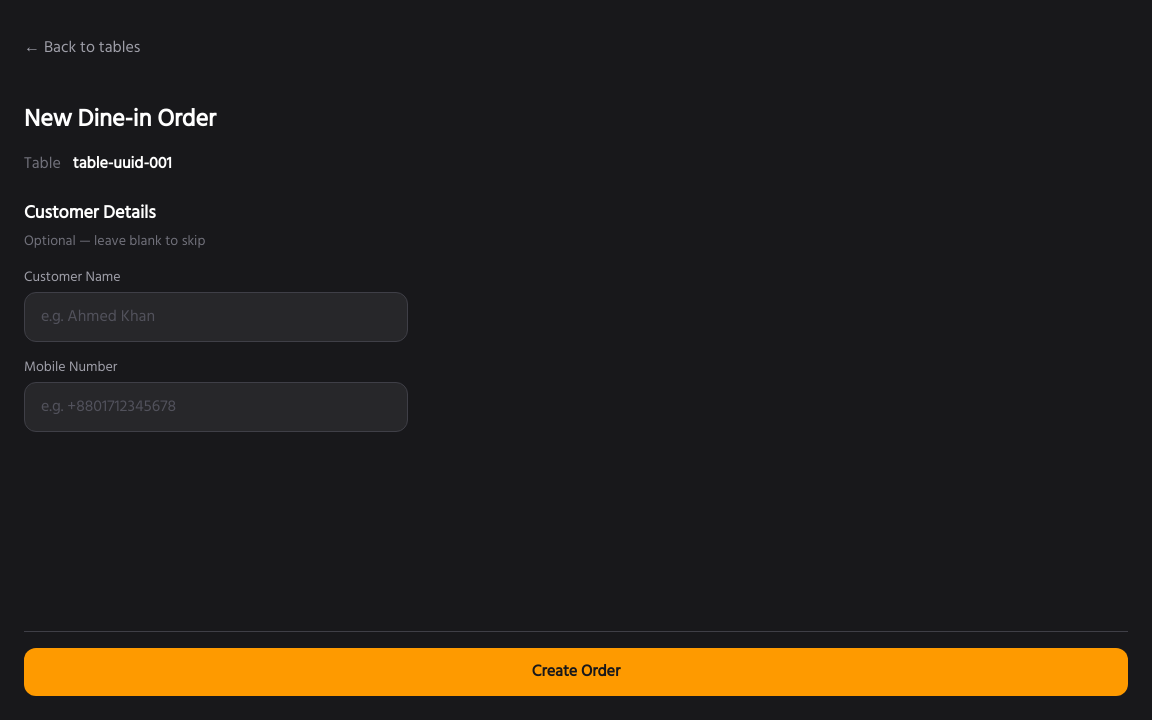
Test case: NewOrderPage (dine-in with optional customer capture — issue #401) › on failure › shows the error message and a Go back button
This screenshot has width=1152, height=720.
Click the button "Create Order". click: (576, 672)
box: [24, 648, 1128, 696]
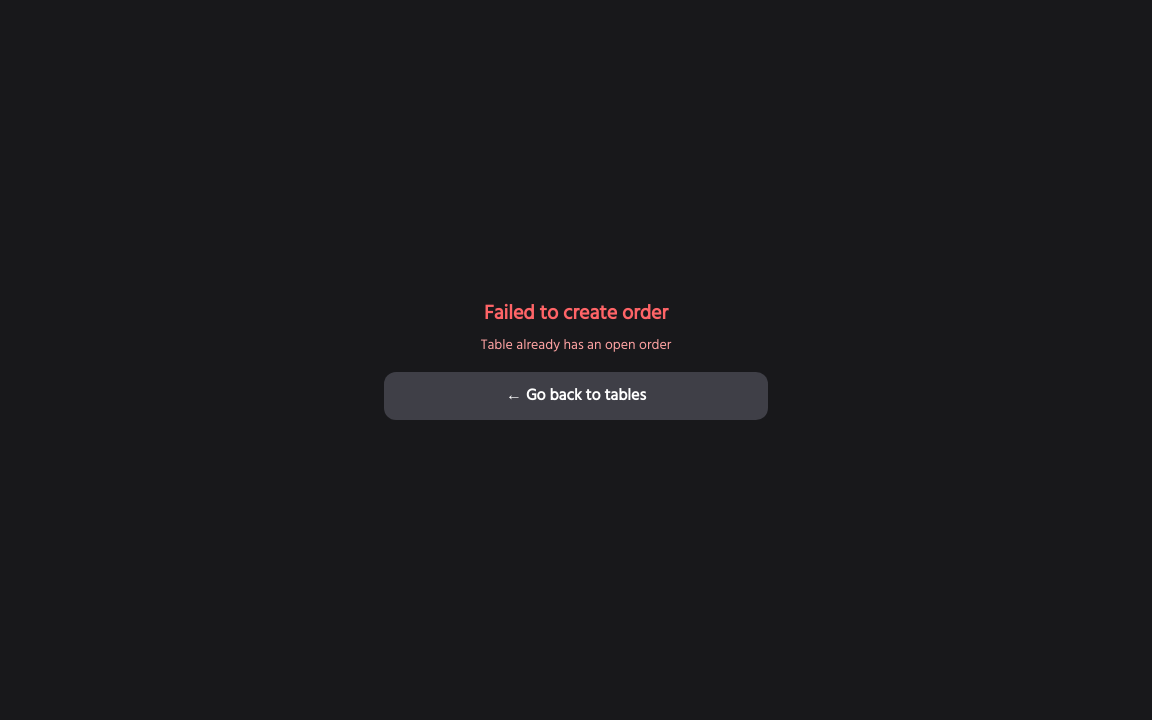
Expected: the text "Table already has an open order" is shown, [481, 336, 671, 356]
Expected: the text "Failed to create order" is shown, [481, 300, 671, 328]
Expected: the button "← Go back to tables" is shown, [384, 372, 768, 420]
